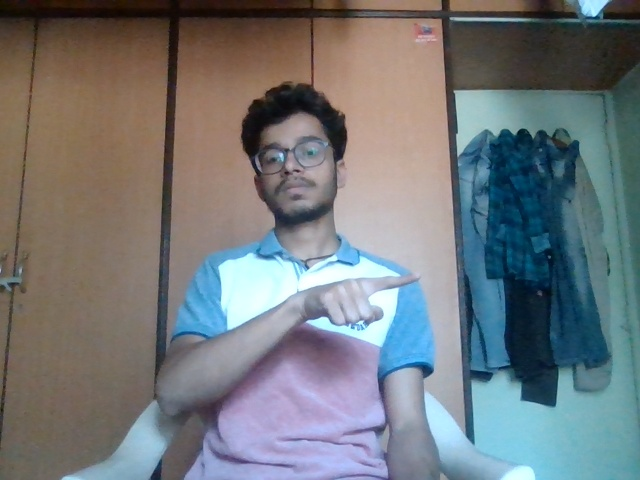you: (283, 264, 427, 347)
